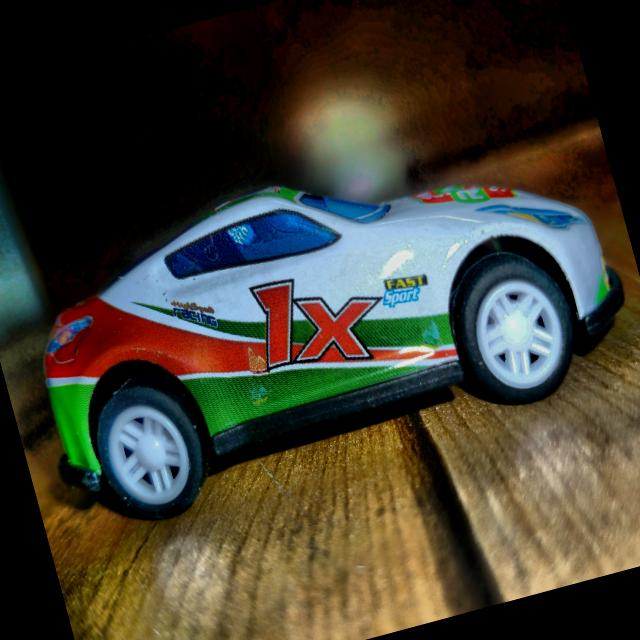Car: (14, 106, 640, 538)
